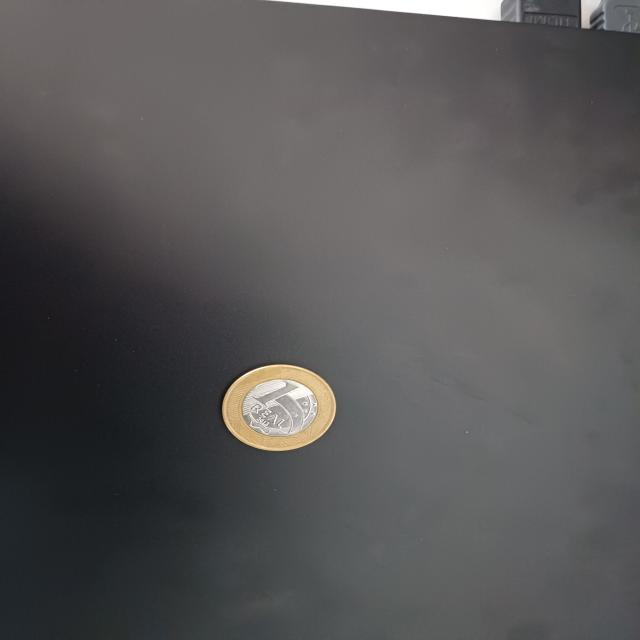1 real: (218, 365, 339, 453)
